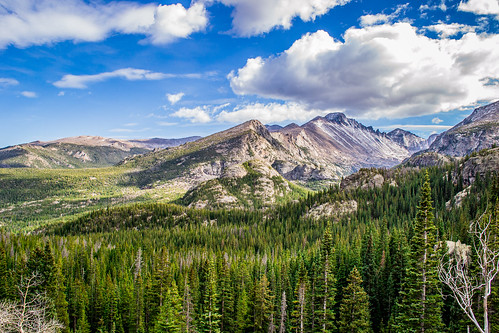mountain: (180, 94, 425, 162), (1, 124, 144, 163)
sky: (4, 1, 499, 132)
vegetation: (17, 161, 498, 333)
